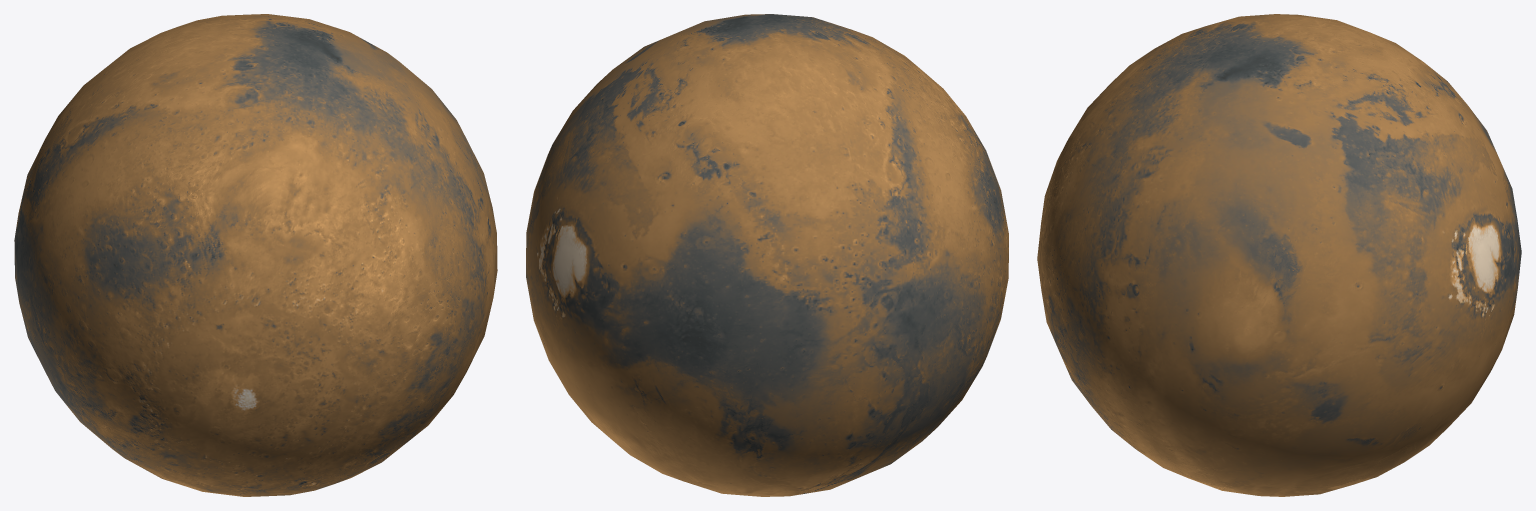
Rendered from Mars2.glb.
The picture shows the model from 3 angles, left to right: view 1: azimuth 30°, elevation 25°; view 2: azimuth 150°, elevation 25°; view 3: azimuth 270°, elevation 25°; orthographic projection.
Parts seen in each view (by area): view 1: Mars; view 2: Mars; view 3: Mars.
Part boxes in pixels (x1,y1,x2,y2): Mars: (14, 14, 497, 496); Mars: (526, 14, 1008, 496); Mars: (1037, 14, 1521, 496).
Size of the model in its own units: 6.69 by 6.68 by 6.7.
Materials: 1 (1 with a texture image).
